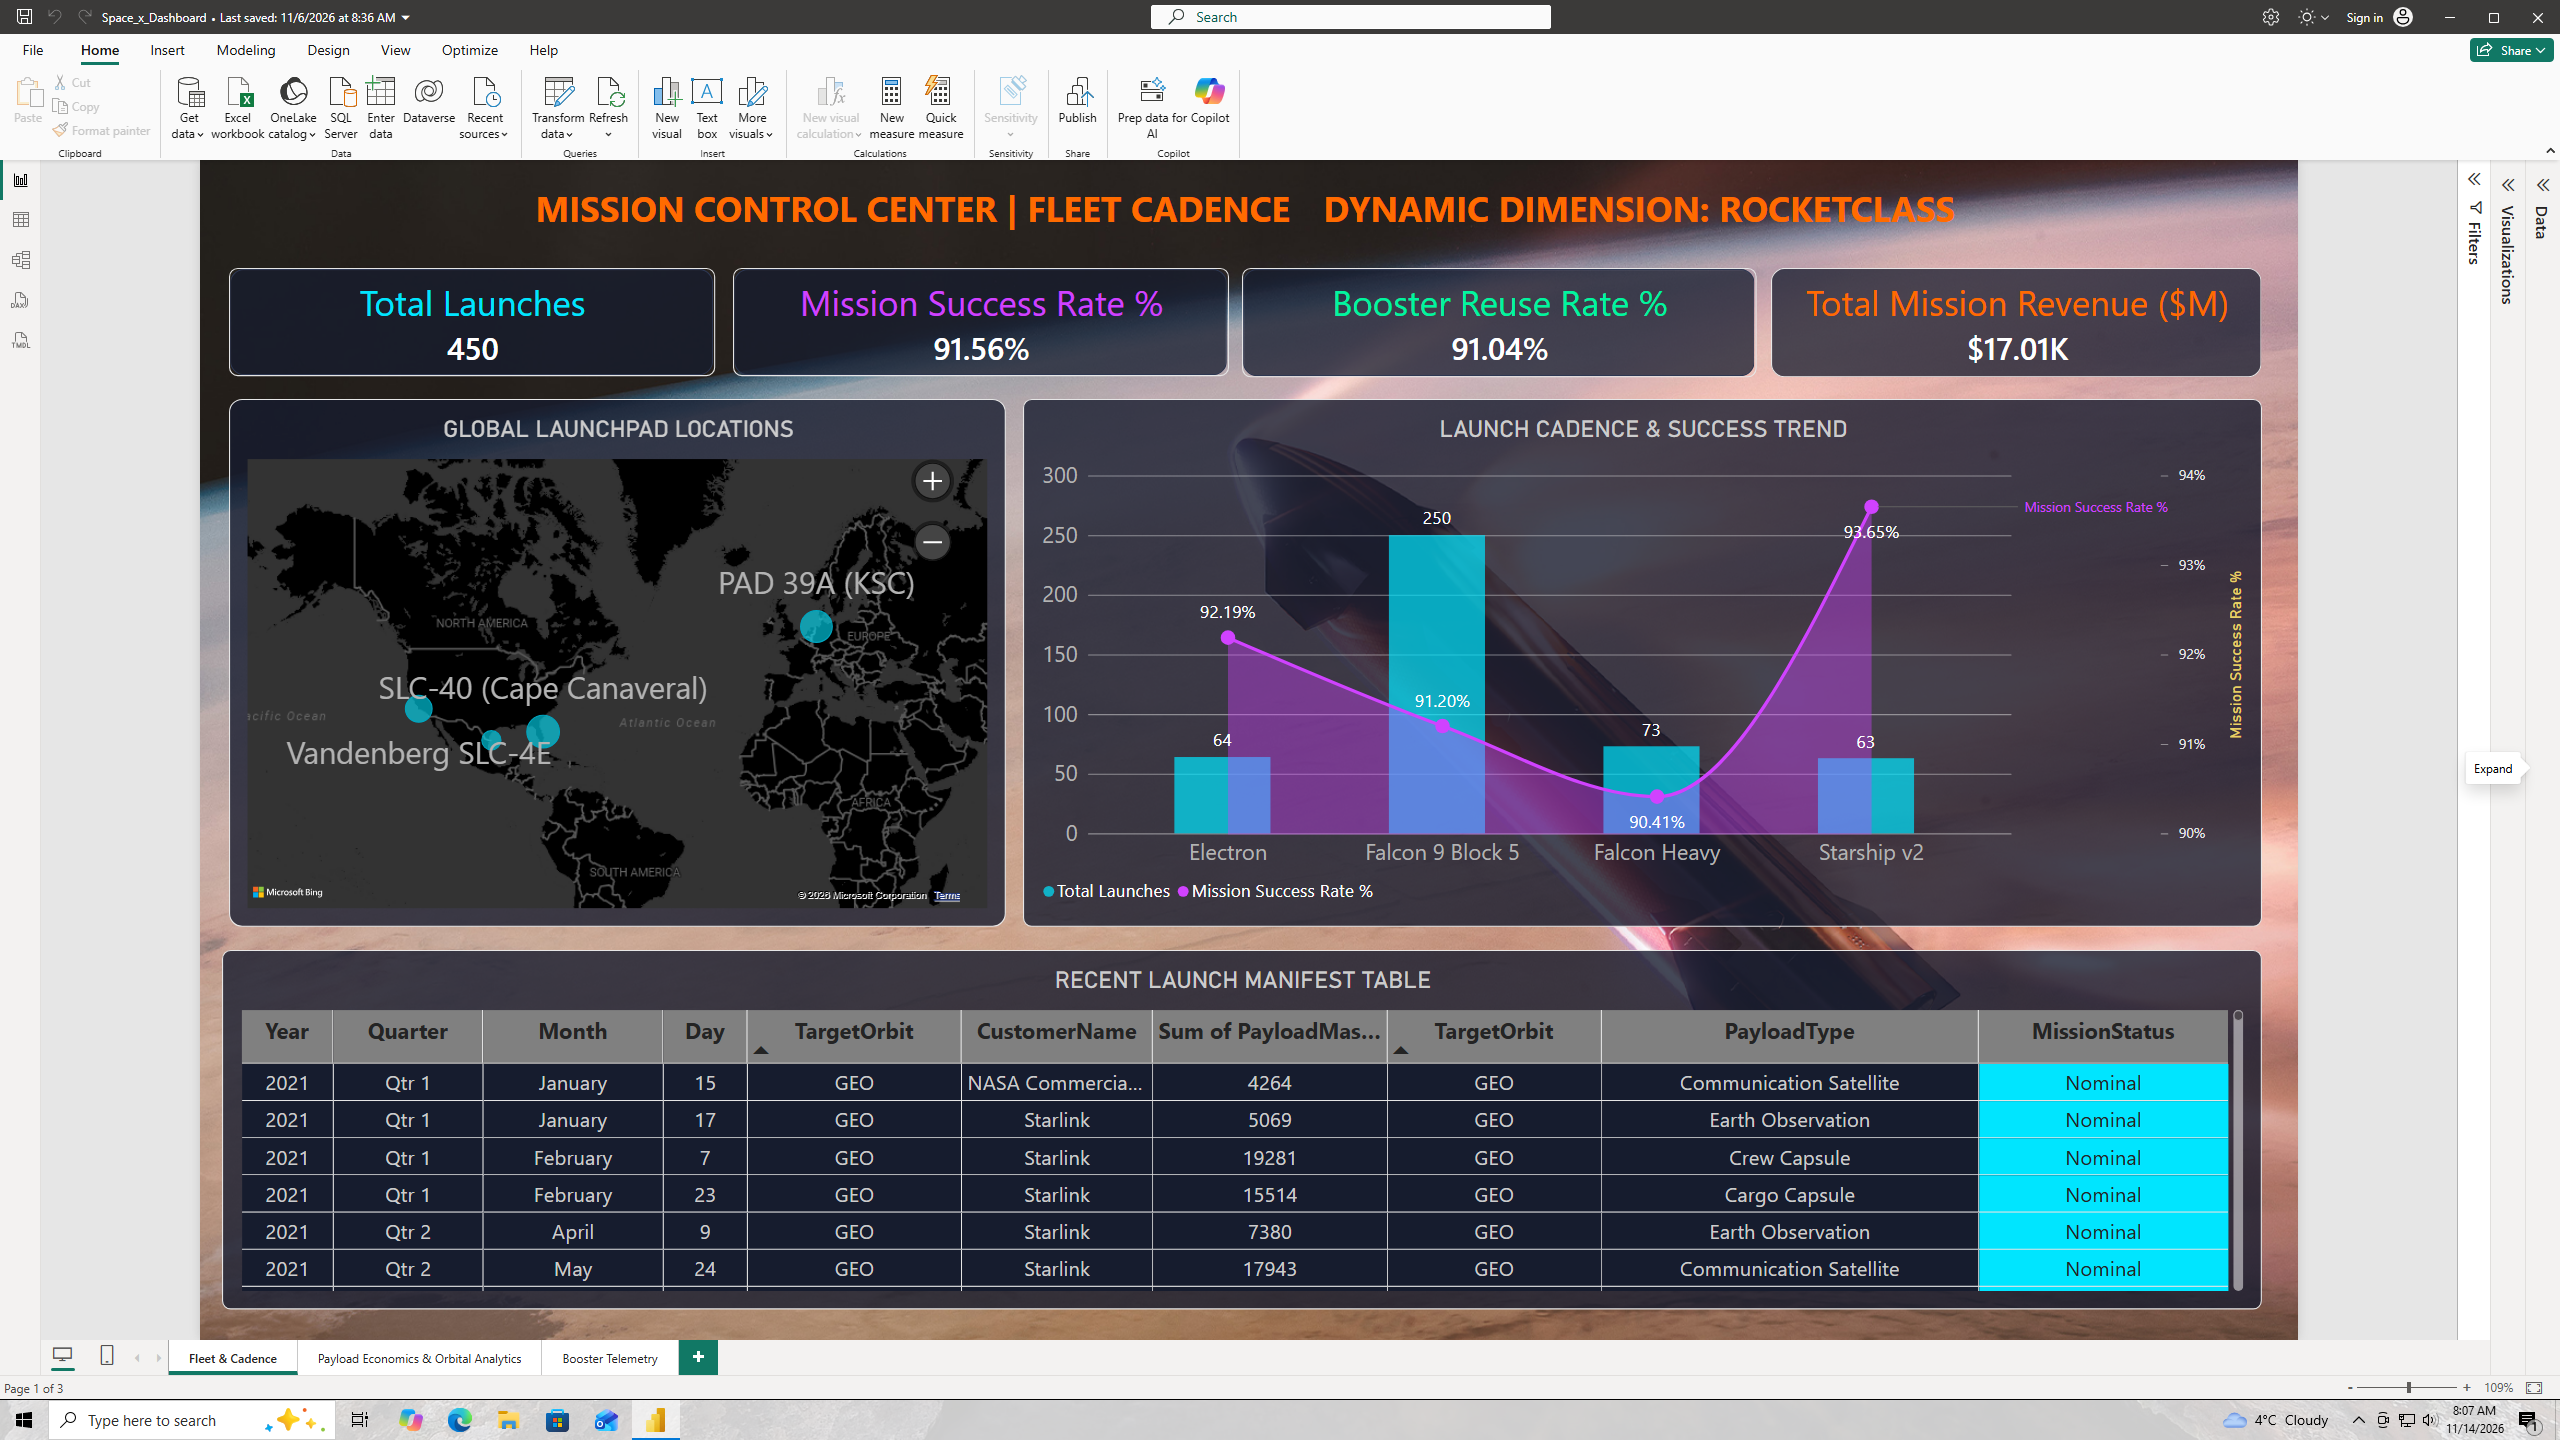

What the dashboard file says about the page in this screenshot:
{"tool":"powerbi","page":{"name":"Fleet & Cadence","canvas":[1920,1080],"ordinal":0},"visuals":[{"type":"cardVisual","fields":{"Data":["_Measures.Total Launches"]},"box":[26.7,98.5,444.6,99.5],"z":0},{"type":"cardVisual","fields":{"Data":["_Measures.Mission Success Rate %"]},"box":[487.6,98.5,453.9,99.5],"z":1000},{"type":"cardVisual","fields":{"Data":["_Measures.Booster Reuse Rate %"]},"box":[953.4,98.5,470.9,100.2],"z":2000},{"type":"cardVisual","fields":{"Data":["_Measures.Total Mission Revenue ($M)"]},"box":[1437.7,98.5,449.2,100.2],"z":3000},{"type":"lineClusteredColumnComboChart","title":"LAUNCH CADENCE & SUCCESS TREND","fields":{"Category":["Fact_Launches.RocketClass","Fact_Launches.TargetOrbit","Fact_Launches.CustomerName","Fact_Launches.LaunchpadLocation"],"Y":["_Measures.Total Launches"],"Y2":["_Measures.Mission Success Rate %"]},"box":[753.1,218.7,1133.8,482.6],"z":4000},{"type":"map","title":"GLOBAL LAUNCHPAD LOCATIONS","fields":{"Category":["Fact_Launches.LaunchpadLocation"],"Size":["_Measures.Total Launches"]},"box":[26.7,218.7,711.3,482.6],"z":5000},{"type":"tableEx","title":"RECENT LAUNCH MANIFEST TABLE","fields":{"Values":["Fact_Launches.LaunchDate.Variation.Date Hierarchy.Year","Fact_Launches.LaunchDate.Variation.Date Hierarchy.Quarter","Fact_Launches.LaunchDate.Variation.Date Hierarchy.Month","Fact_Launches.LaunchDate.Variation.Date Hierarchy.Day","Fact_Launches.TargetOrbit","Fact_Launches.CustomerName","Sum(Fact_Launches.PayloadMass_KG)","Fact_Launches.TargetOrbit","Dim_PayloadDetails.PayloadType","Fact_Launches.MissionStatus"]},"box":[20,723,1866.8,328.9],"z":6000},{"type":"textbox","box":[26.7,21.7,1860.1,76.8],"z":7000}]}

Visuals, with their boxes on the page's 1920x1080 design canvas (x1, y1, x2, y2). These are canvas units, not pixel positions in the 2560x1440 screenshot, which may show the page scaled, cropped or inside an application window:
cardVisual - _Measures.Total Launches: {"x1": 27, "y1": 98, "x2": 471, "y2": 198}
cardVisual - _Measures.Mission Success Rate %: {"x1": 488, "y1": 98, "x2": 942, "y2": 198}
cardVisual - _Measures.Booster Reuse Rate %: {"x1": 953, "y1": 98, "x2": 1424, "y2": 199}
cardVisual - _Measures.Total Mission Revenue ($M): {"x1": 1438, "y1": 98, "x2": 1887, "y2": 199}
"LAUNCH CADENCE & SUCCESS TREND" lineClusteredColumnComboChart: {"x1": 753, "y1": 219, "x2": 1887, "y2": 701}
"GLOBAL LAUNCHPAD LOCATIONS" map: {"x1": 27, "y1": 219, "x2": 738, "y2": 701}
"RECENT LAUNCH MANIFEST TABLE" tableEx: {"x1": 20, "y1": 723, "x2": 1887, "y2": 1052}
textbox: {"x1": 27, "y1": 22, "x2": 1887, "y2": 98}
